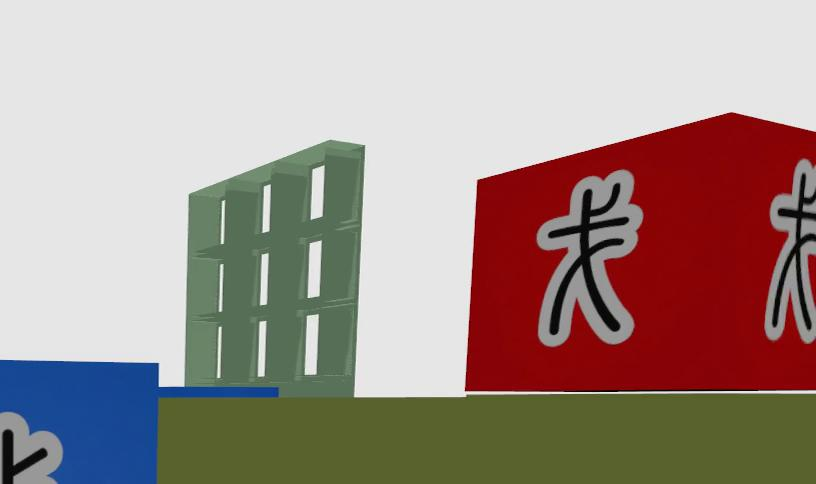KFS_FAKE: (466, 114, 815, 391), (537, 170, 643, 347), (764, 159, 815, 342)
KFS_REAL: (0, 360, 156, 484), (0, 413, 61, 484)
